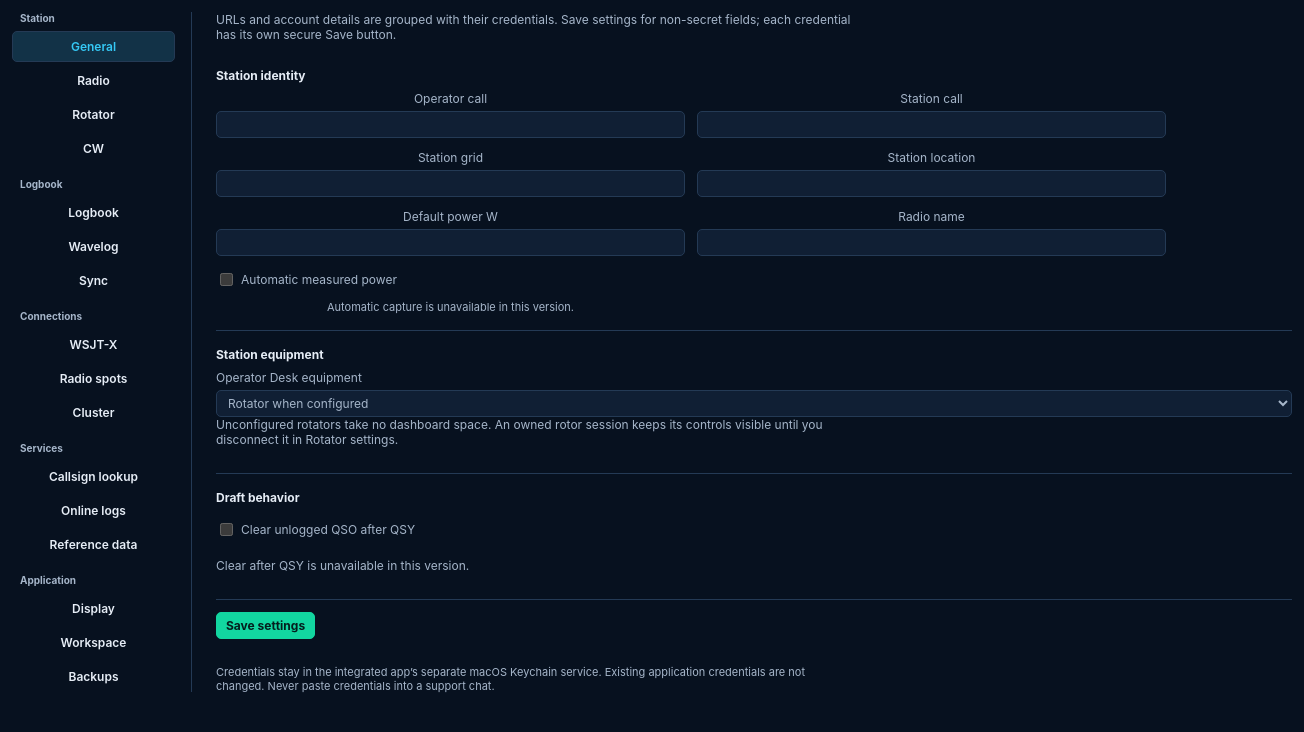
CW preferences and preview never transmit › rejects duplicate shortcuts before any persistence or device request
Click the tab "CW": (94, 148) [12, 133, 175, 164]
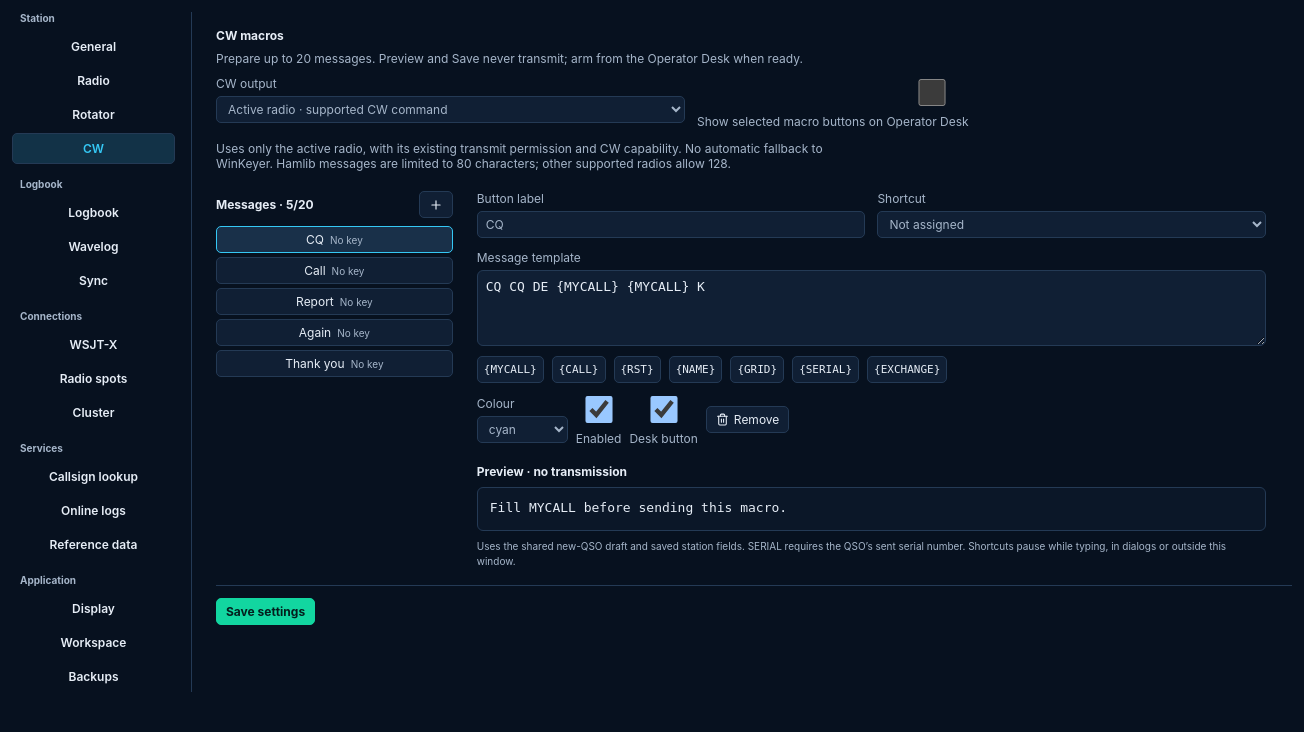
Select "F1" in the dropdown named "CW shortcut": (1072, 224) [877, 211, 1266, 238]
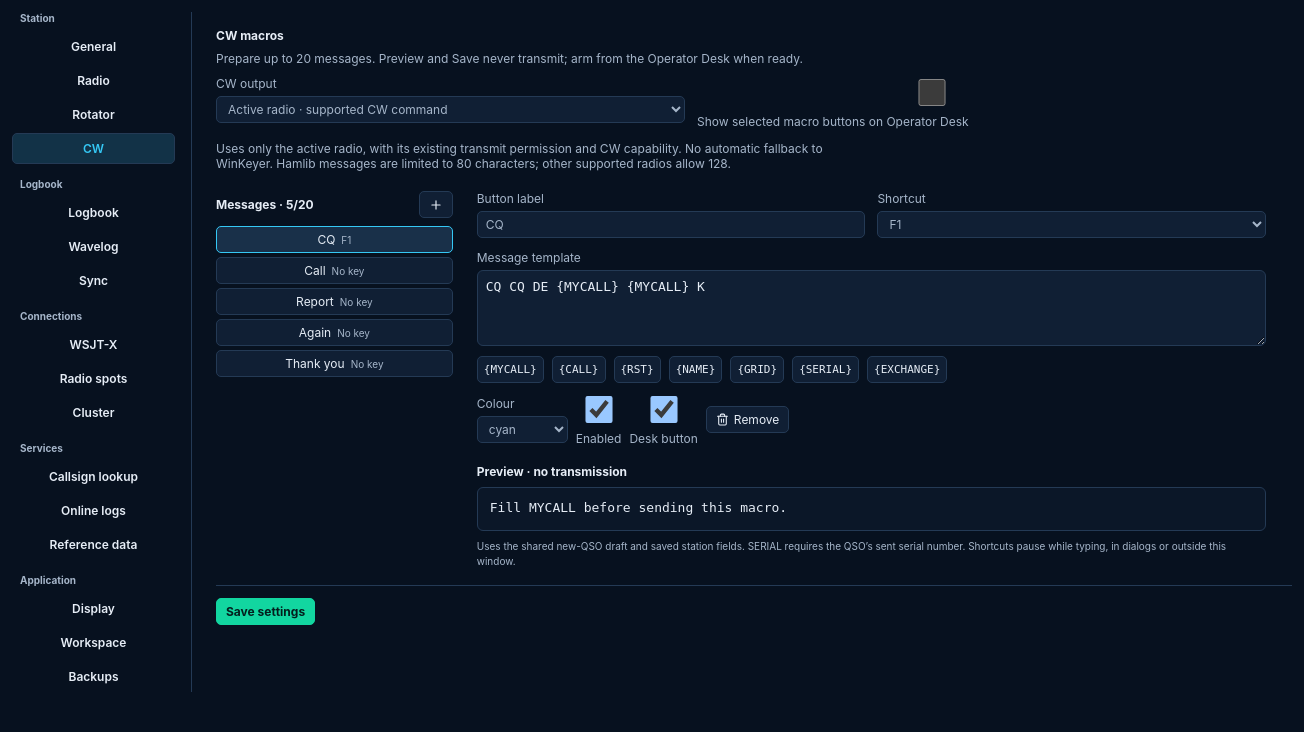
Click the tab "Call No key": (334, 270) [216, 257, 453, 284]
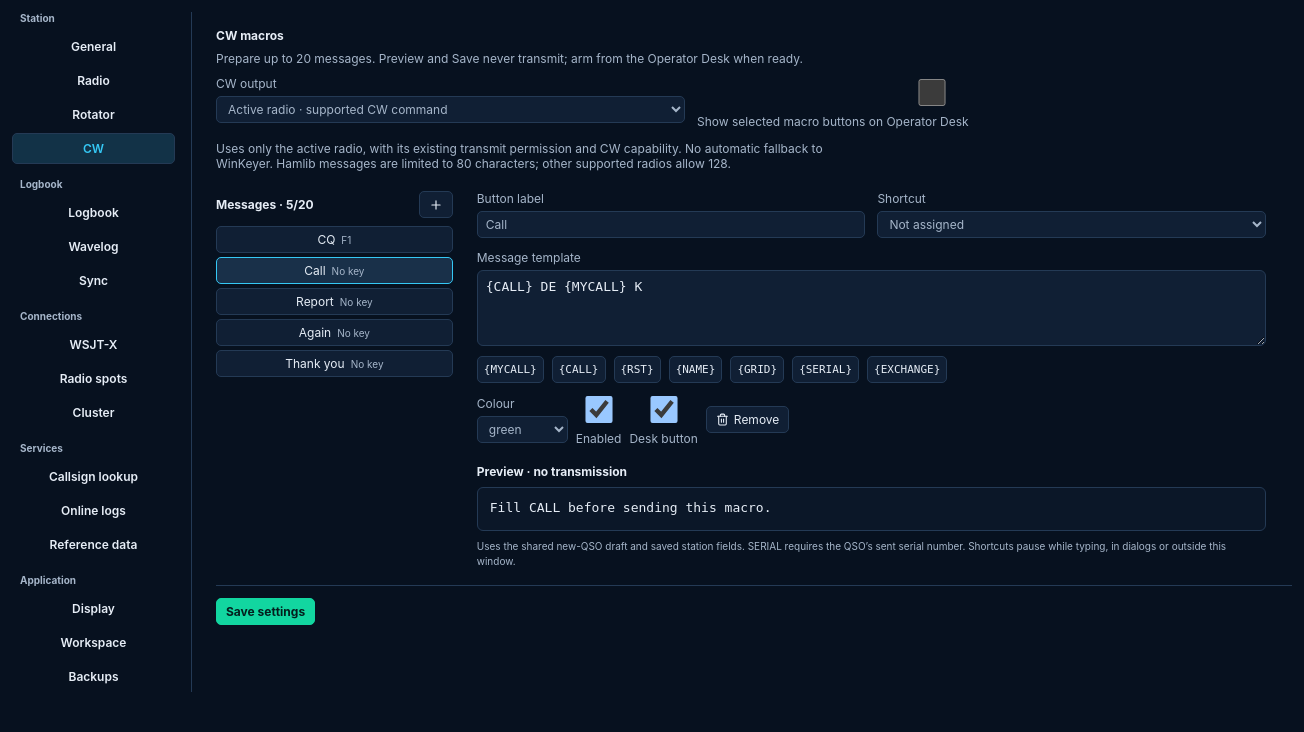
Select "F1" in the dropdown named "CW shortcut": (1072, 224) [877, 211, 1266, 238]
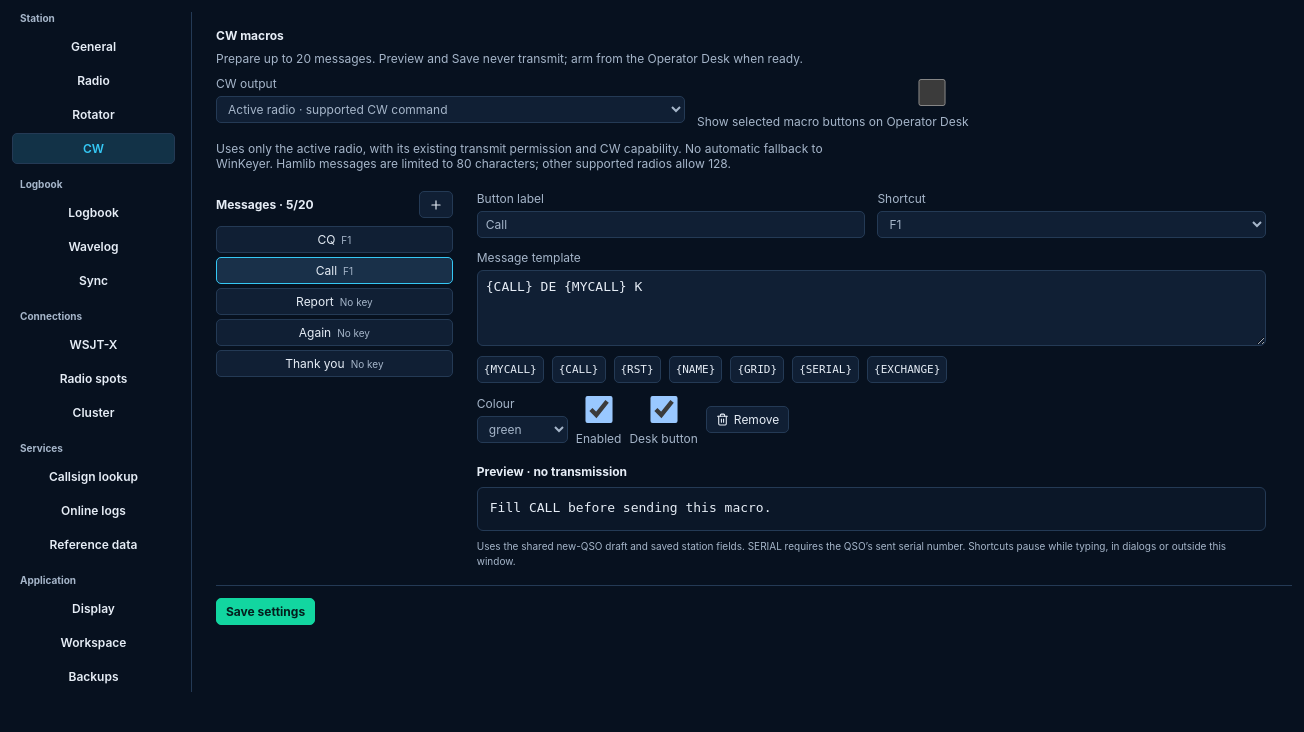
Click the button "Save settings": (266, 612) [216, 598, 315, 625]
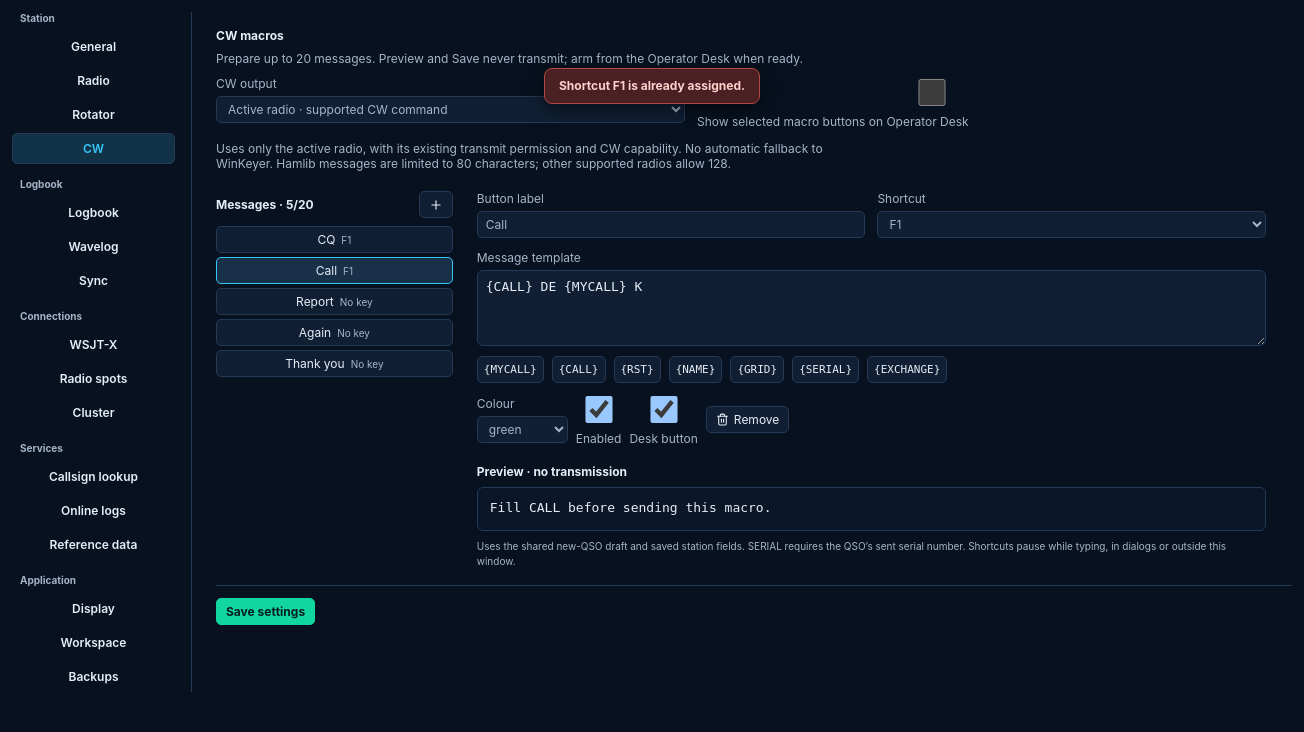
Expected: the text "Shortcut F1 is already assigned." is shown, [544, 68, 760, 104]
